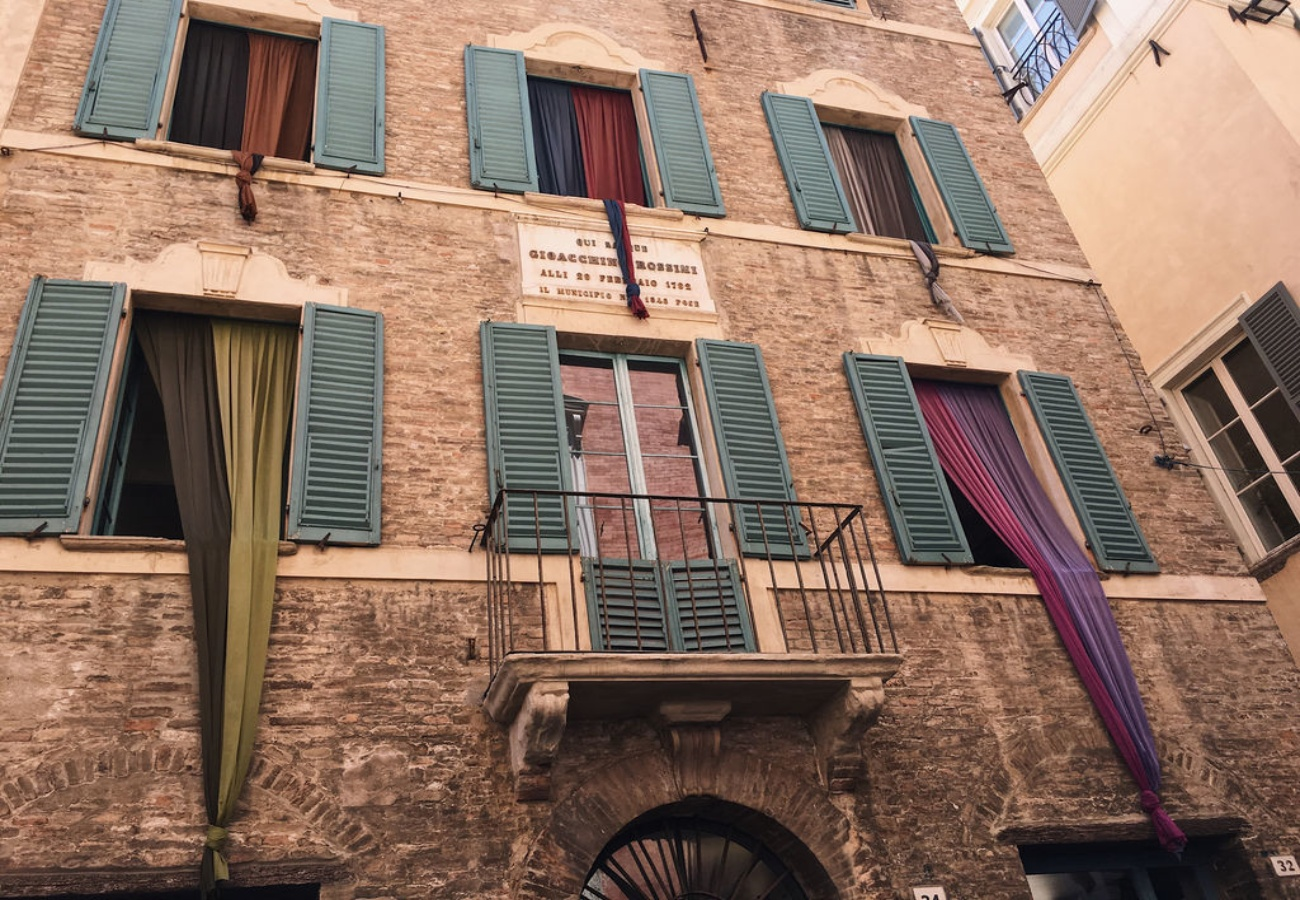Casa Rossini: (1, 1, 1227, 892)
